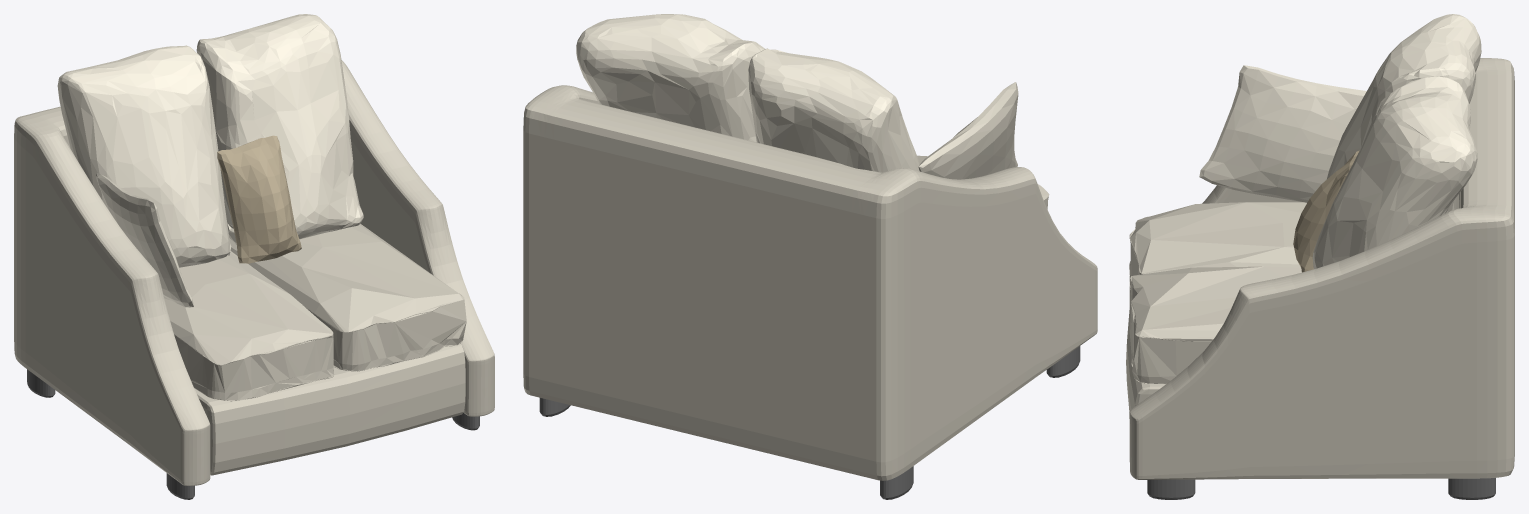
The model's file is sh-scopia-beige-sofa-2seats.glb.
The picture shows the model from 3 angles, left to right: view 1: azimuth 30°, elevation 25°; view 2: azimuth 150°, elevation 25°; view 3: azimuth 270°, elevation 25°; orthographic projection. The views are drawn at different scales.
Parts seen in each view (by area): view 1: back.001_Plane.004, bigcushion1.001_Cube.001, cushion_dark.001_Cube.020, cushion_clear2.001_Cube.017, leg3.001_Cylinder.004; view 2: back.001_Plane.004, bigcushion1.001_Cube.001, cushion_clear2.001_Cube.017, leg3.001_Cylinder.004; view 3: back.001_Plane.004, bigcushion1.001_Cube.001, cushion_clear2.001_Cube.017, cushion_dark.001_Cube.020, leg3.001_Cylinder.004.
Part boxes in pixels (box(x1,y1,x2,y2)): back.001_Plane.004: box(14, 60, 494, 485); bigcushion1.001_Cube.001: box(57, 14, 363, 267); cushion_dark.001_Cube.020: box(217, 135, 301, 263); cushion_clear2.001_Cube.017: box(96, 173, 193, 307); leg3.001_Cylinder.004: box(27, 369, 479, 499); back.001_Plane.004: box(523, 85, 1097, 480); bigcushion1.001_Cube.001: box(576, 14, 919, 172); cushion_clear2.001_Cube.017: box(918, 82, 1018, 179); leg3.001_Cylinder.004: box(539, 346, 1080, 499); back.001_Plane.004: box(1126, 58, 1514, 479); bigcushion1.001_Cube.001: box(1312, 14, 1481, 268); cushion_clear2.001_Cube.017: box(1199, 65, 1366, 202); cushion_dark.001_Cube.020: box(1293, 150, 1359, 272); leg3.001_Cylinder.004: box(1147, 478, 1495, 499).
Size of the model in its own units: 1 by 0.9999 by 1.
